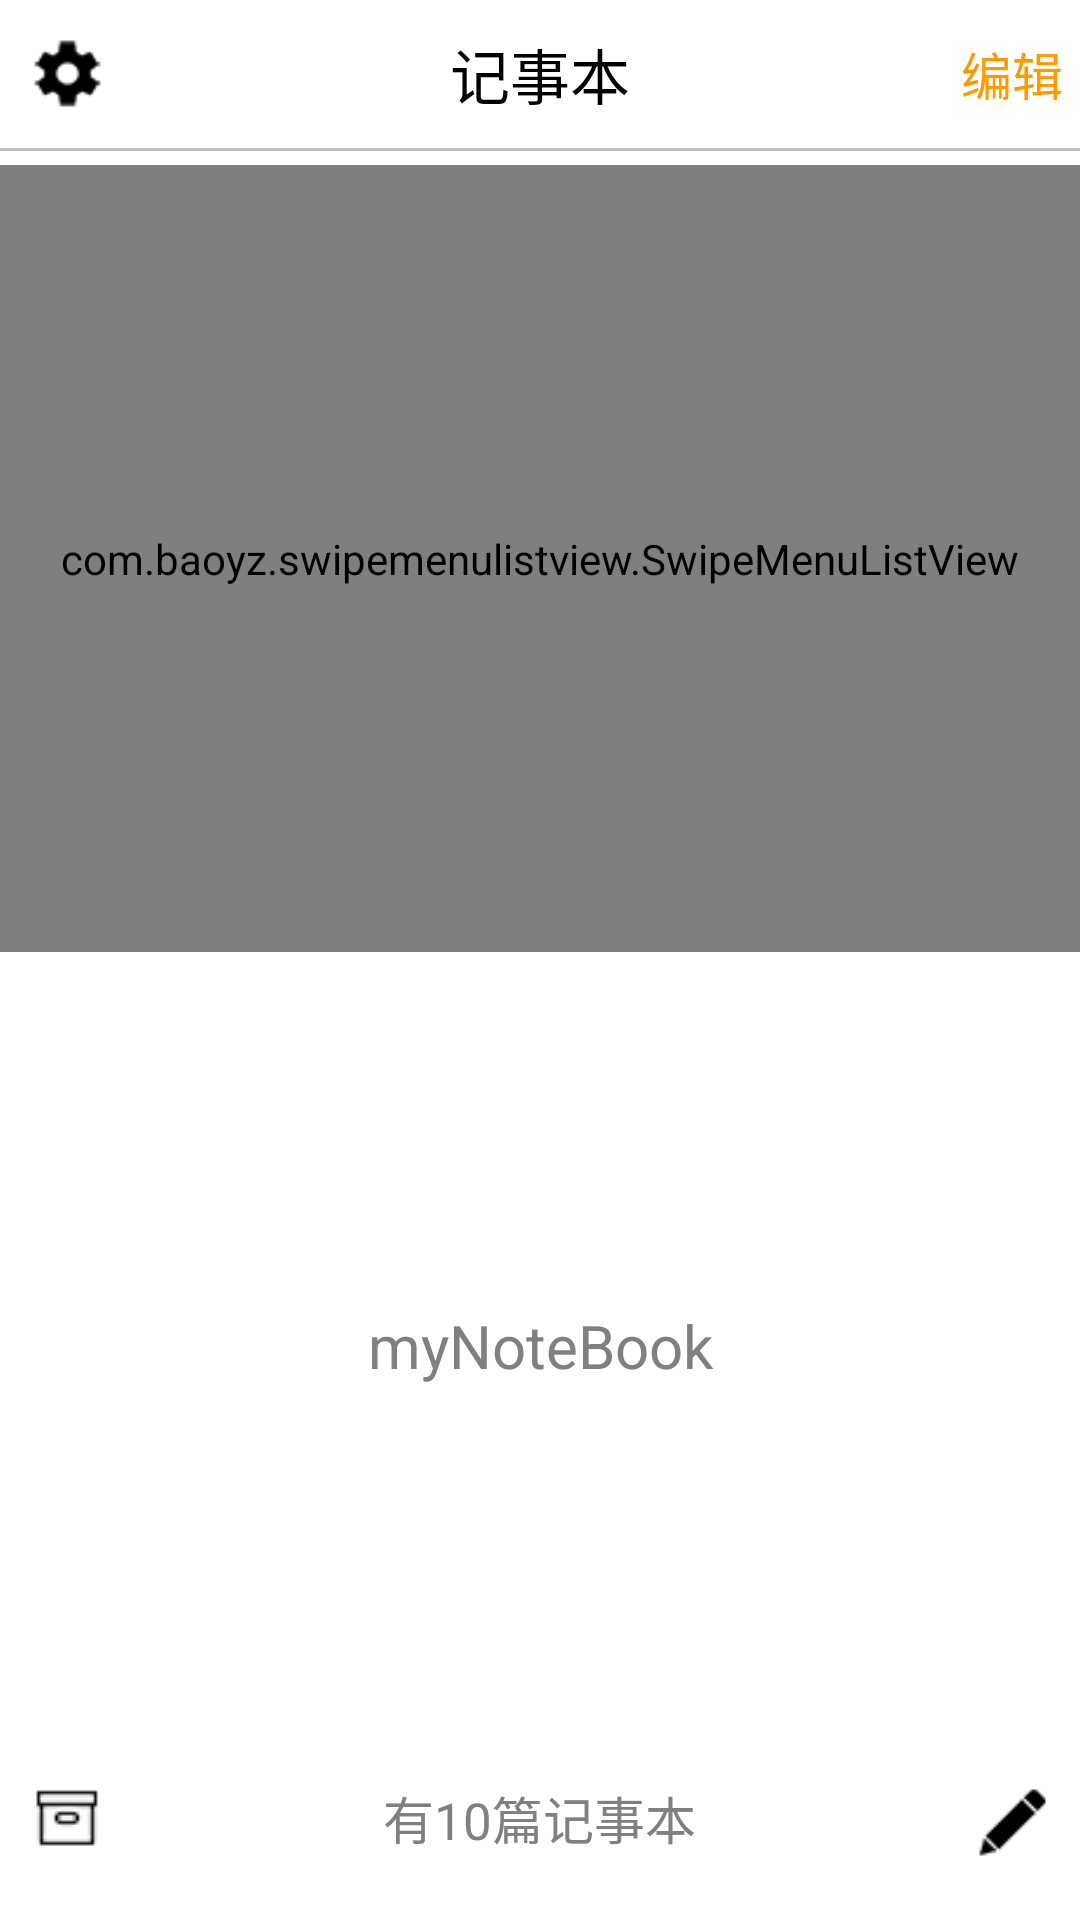

Icons on this 1080w x 1920h Android screen, each with its box as [left=x1, top=y1, right=x2, bottom=y2]:
box: [left=36, top=1790, right=98, bottom=1846]
edit: [left=979, top=1789, right=1046, bottom=1856]
Setting: [left=34, top=40, right=101, bottom=107]
